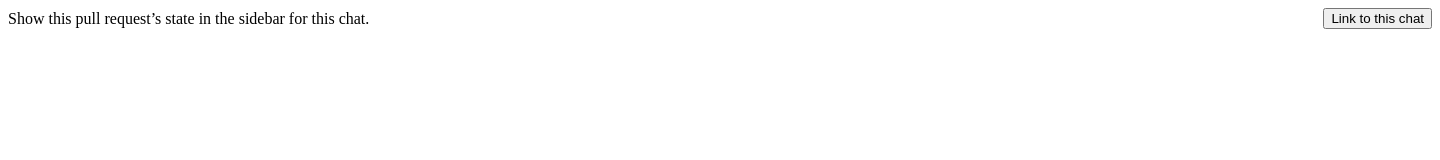
Test case: links the pull request to the Solo chat it was opened from, and unlinks it
Click the button "Link to this chat" at coordinates (1378, 18), box [1323,8,1432,29]
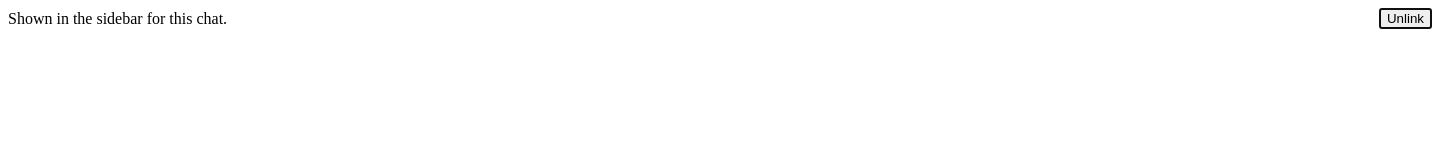
Check: the text "Shown in the sidebar for this chat." is shown, box [8,10,227,28]
Click the button "Unlink" at coordinates (1406, 18), box [1379,8,1432,29]
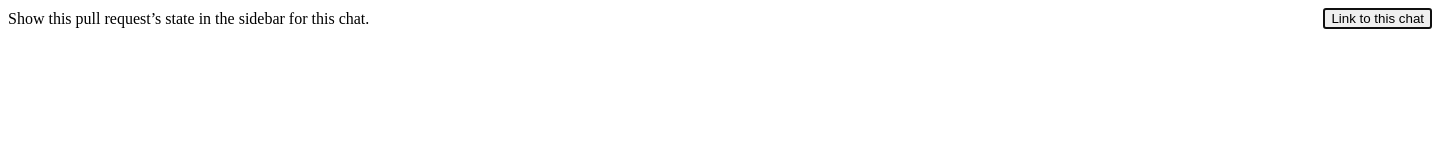
Check: the button "Link to this chat" is shown, box [1323,8,1432,29]
